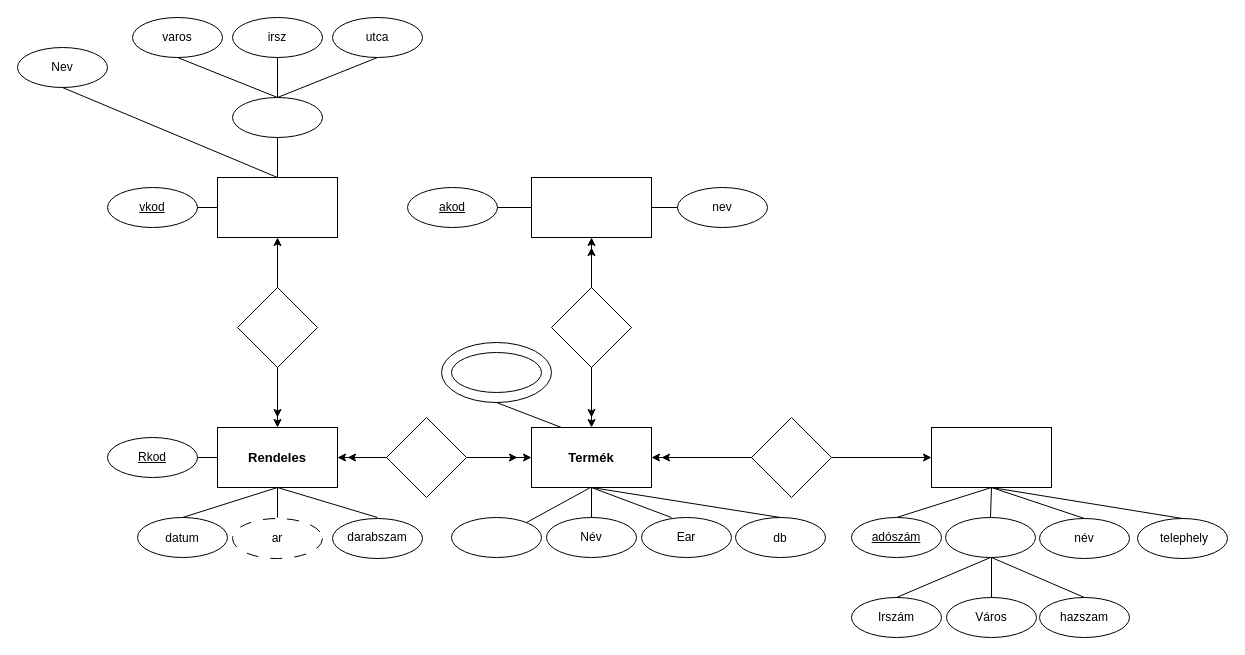
The diagram is 1245 pixels wide and 655 high, and some of its shapes have lost their labels. The shapes that lost their labels are listed below. From the top down, each one's box as (x1, y1, x2, y2) in pixels, then its label:
(232, 96, 322, 138): lakcim
(216, 176, 338, 238): Vevő
(530, 176, 652, 238): Alkatrész
(236, 286, 318, 368): R_V
(550, 286, 632, 368): T_A
(450, 352, 542, 392): Egység_db
(386, 416, 466, 498): R_T
(750, 416, 832, 498): T-GY
(930, 426, 1052, 488): Gyártó
(450, 516, 542, 558): Tkód
(944, 516, 1036, 558): Postacím
